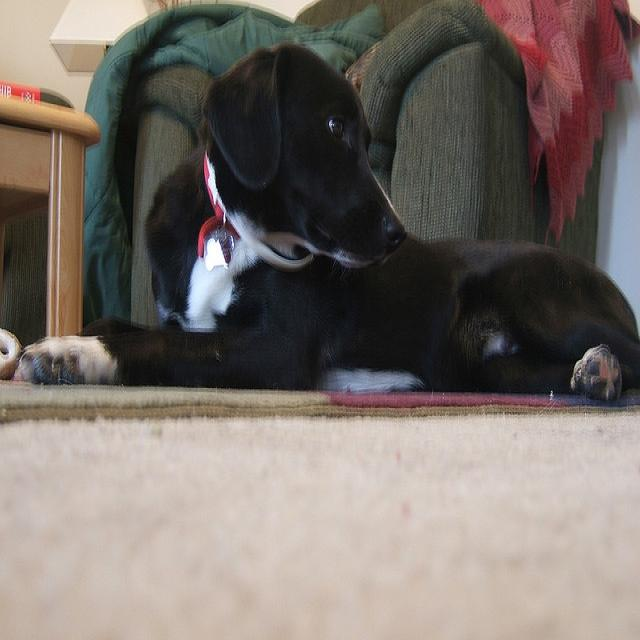dog: (13, 41, 639, 399)
